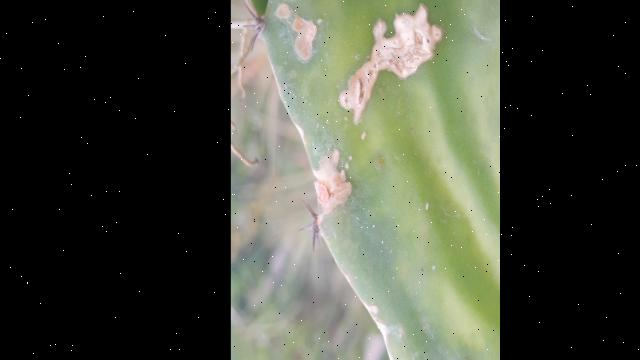stemcanker: (334, 3, 447, 125), (306, 145, 355, 217), (269, 1, 320, 64)
